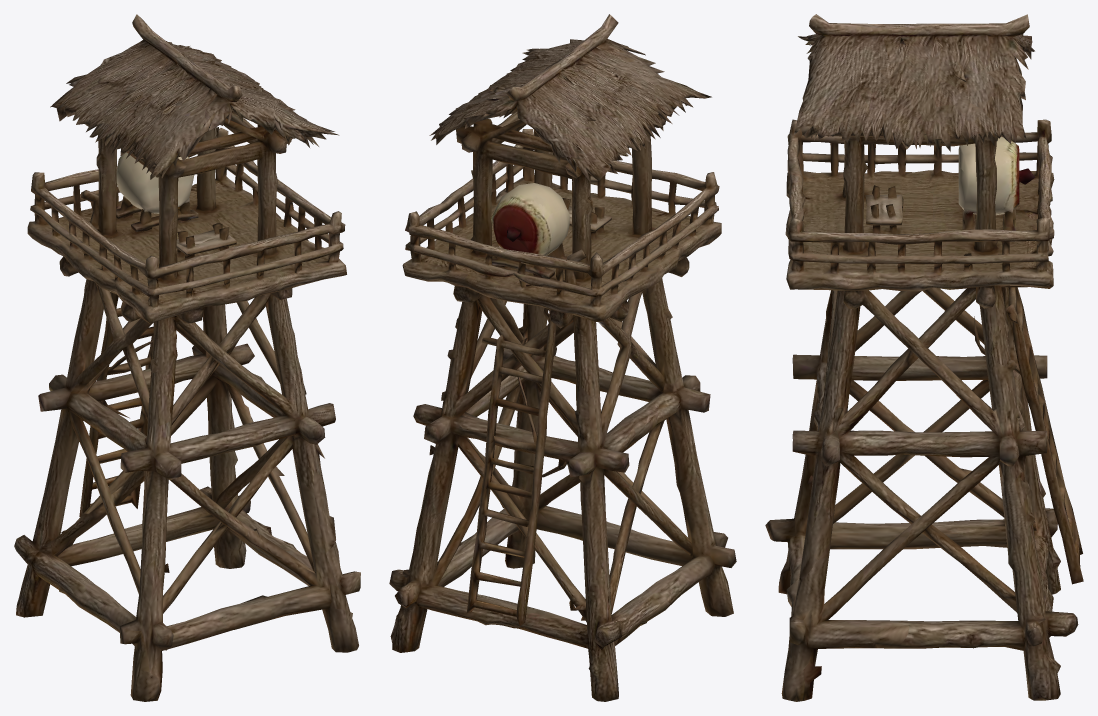
The model's file is v-tower.glb.
The picture shows the model from 3 angles, left to right: view 1: azimuth 30°, elevation 25°; view 2: azimuth 150°, elevation 25°; view 3: azimuth 270°, elevation 25°; orthographic projection. The views are drawn at different scales.
Visible parts, largest first — view 1: tripo_node_094b1132-884e-446e-9a42-0f8cb6df6686; view 2: tripo_node_094b1132-884e-446e-9a42-0f8cb6df6686; view 3: tripo_node_094b1132-884e-446e-9a42-0f8cb6df6686.
Part boxes in pixels (left/top/right/bottom): tripo_node_094b1132-884e-446e-9a42-0f8cb6df6686: left=14, top=14, right=360, bottom=701; tripo_node_094b1132-884e-446e-9a42-0f8cb6df6686: left=389, top=14, right=736, bottom=701; tripo_node_094b1132-884e-446e-9a42-0f8cb6df6686: left=765, top=14, right=1083, bottom=701.
Bounding box in the file's own units: 0.4297 × 1 × 0.4595.
Materials: 1 (1 with a texture image).
